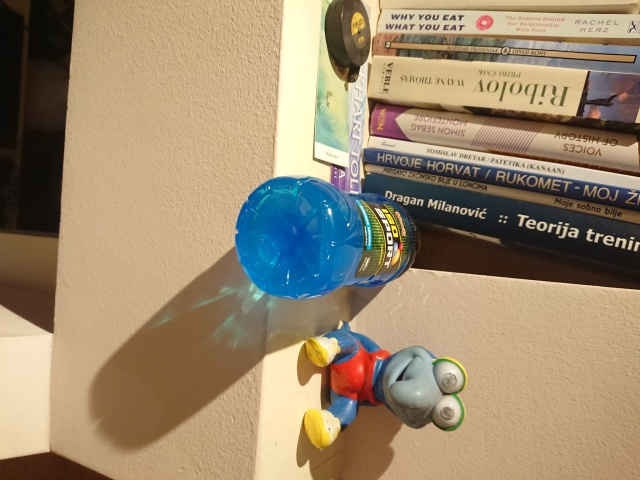Vindi Iso Sport Forest Strawberries 500mL: (232, 173, 434, 303)
